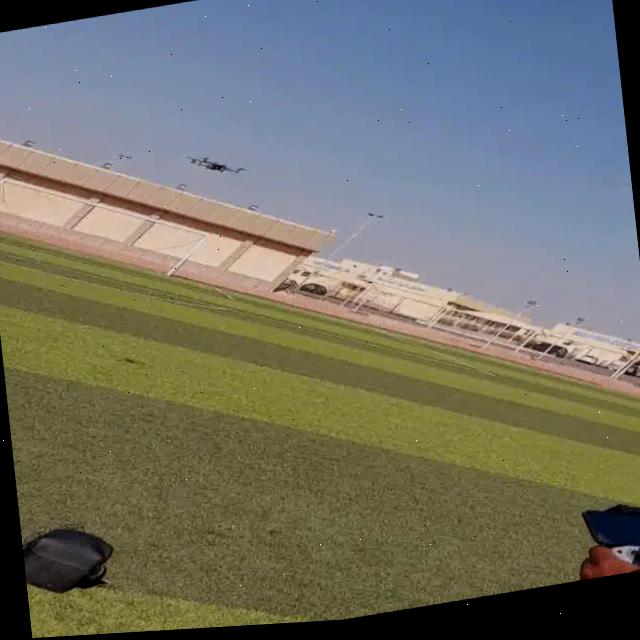drone: (178, 146, 251, 190)
